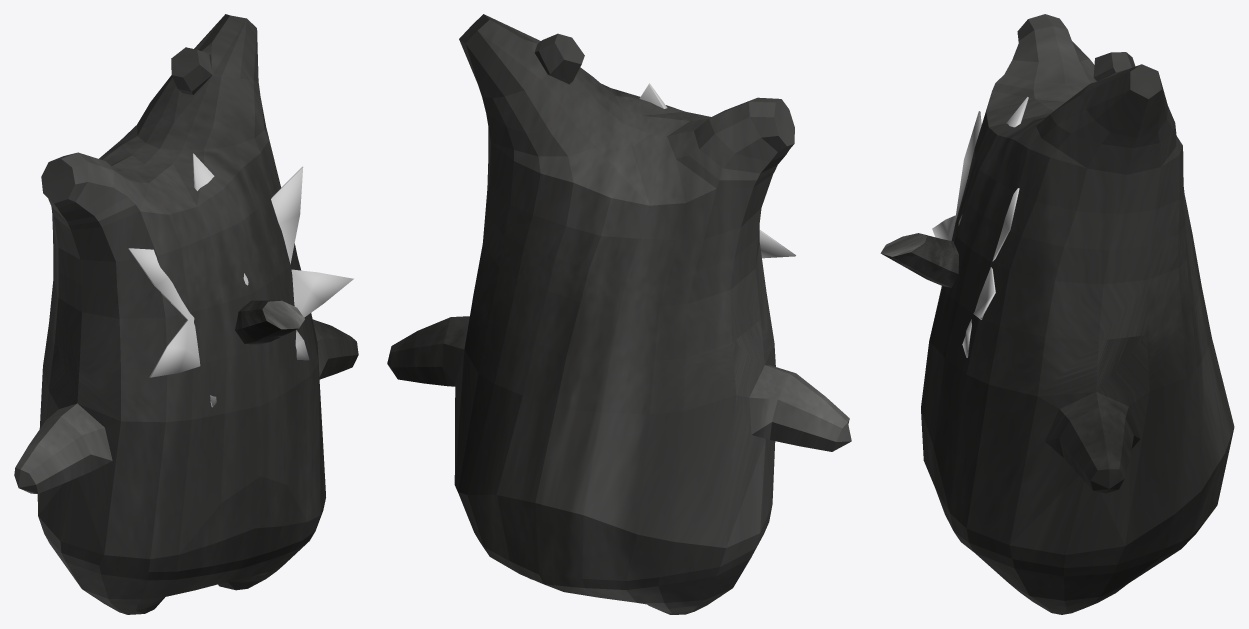
File: frame_0048.obj
3 views of the same model, side by side, from view 1: azimuth 30°, elevation 25°; view 2: azimuth 150°, elevation 25°; view 3: azimuth 270°, elevation 25° (orthographic). The views are drawn at different scales.
Visible parts, largest first — view 1: korok, leaf.003_柱体.013, nose.003_柱体.011; view 2: korok, leaf.003_柱体.013; view 3: korok, nose.003_柱体.011, leaf.003_柱体.013.
Part boxes in pixels (box(x1,y1,x2,y2)): korok: box(14, 14, 358, 614); leaf.003_柱体.013: box(128, 153, 353, 407); nose.003_柱体.011: box(235, 300, 304, 344); korok: box(387, 14, 851, 614); leaf.003_柱体.013: box(639, 83, 795, 258); korok: box(921, 14, 1234, 614); nose.003_柱体.011: box(880, 233, 958, 287); leaf.003_柱体.013: box(932, 97, 1028, 357).
Bounding box in the file's own units: 1.7 × 2.3 × 1.31.
